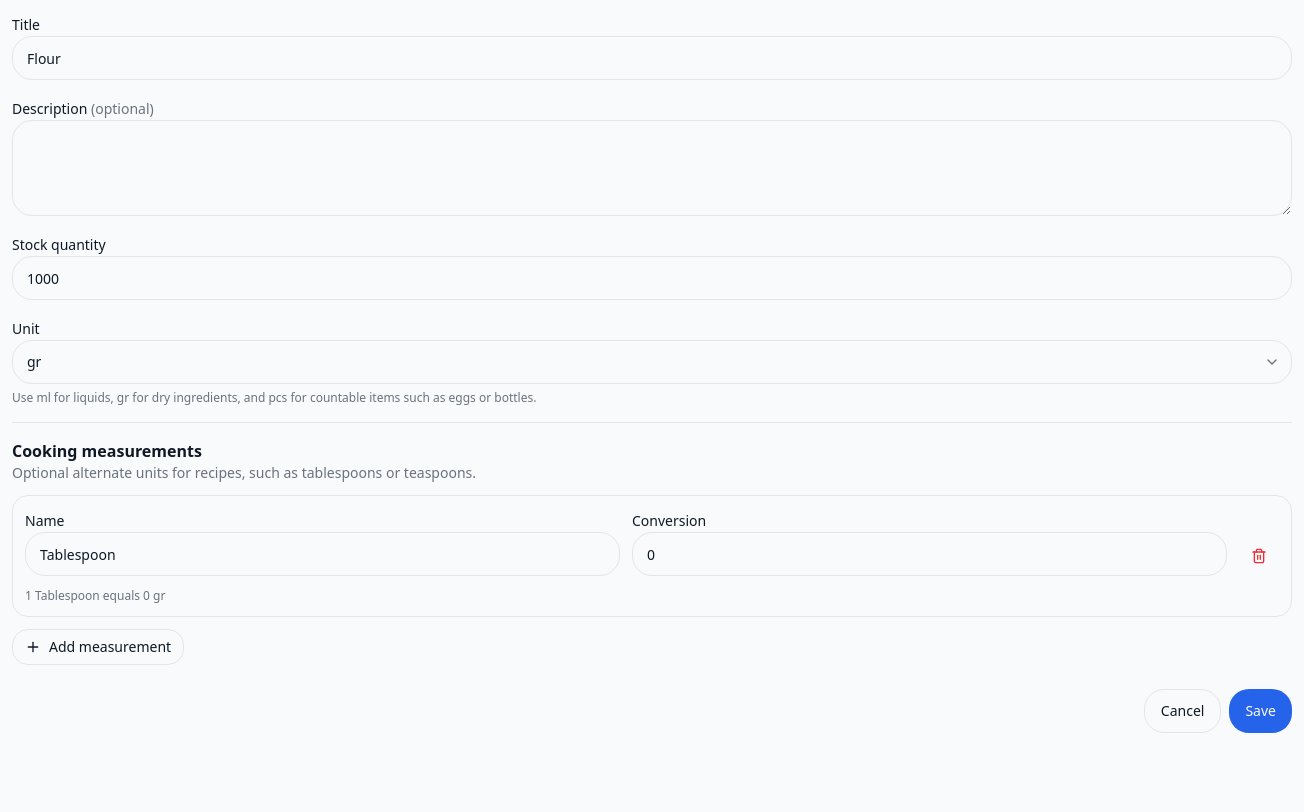
Test: FoodSupplyForm › blocks submit when cooking measurement conversion is zero
Click the button "Save" at (1261, 711), box [1229,689,1292,733]
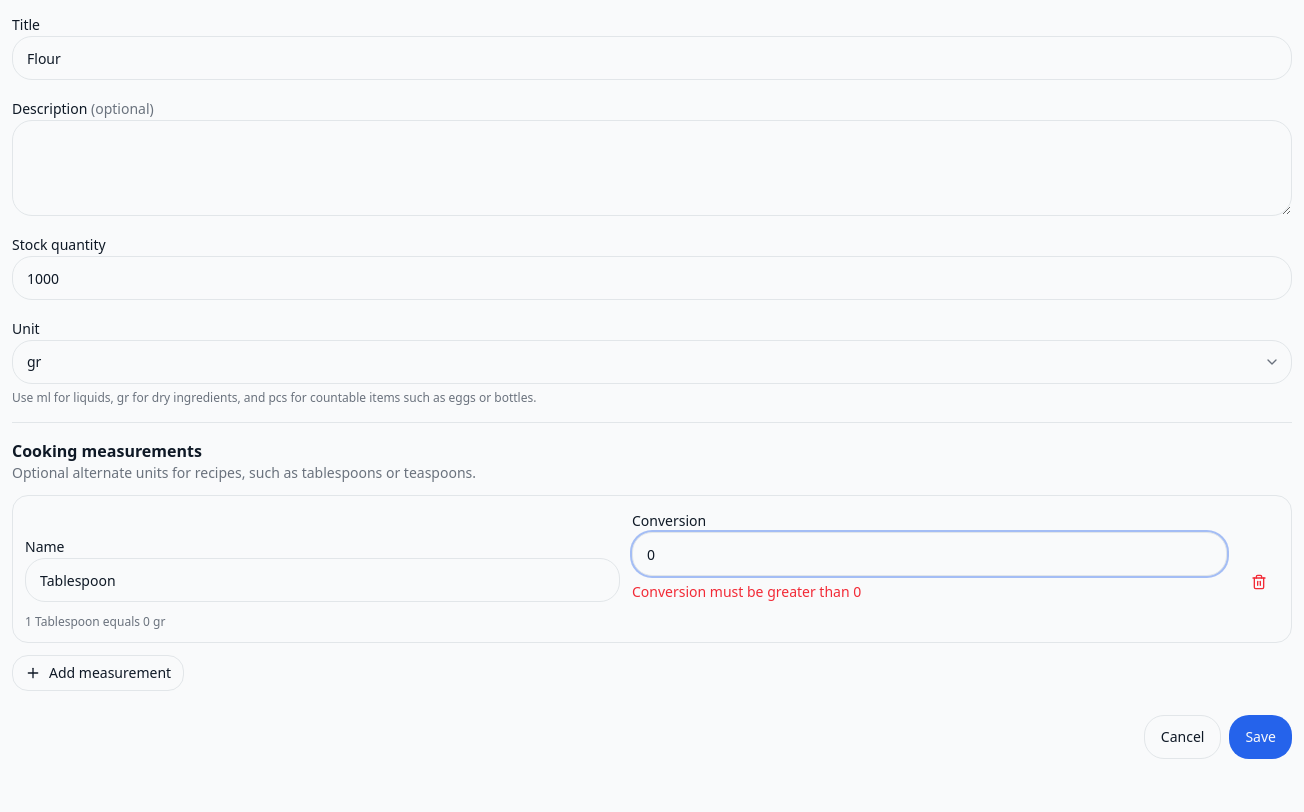
expect the text "Conversion must be greater than 0" is shown: met, box [632,582,861,601]
